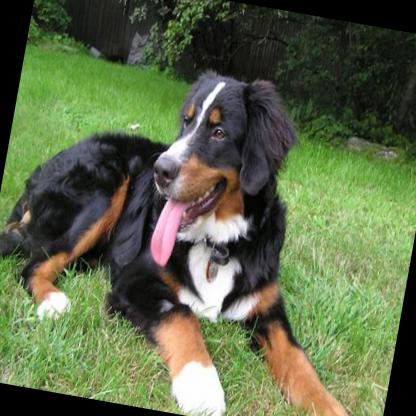Bernese_mountain_dog: (0, 35, 416, 416)
